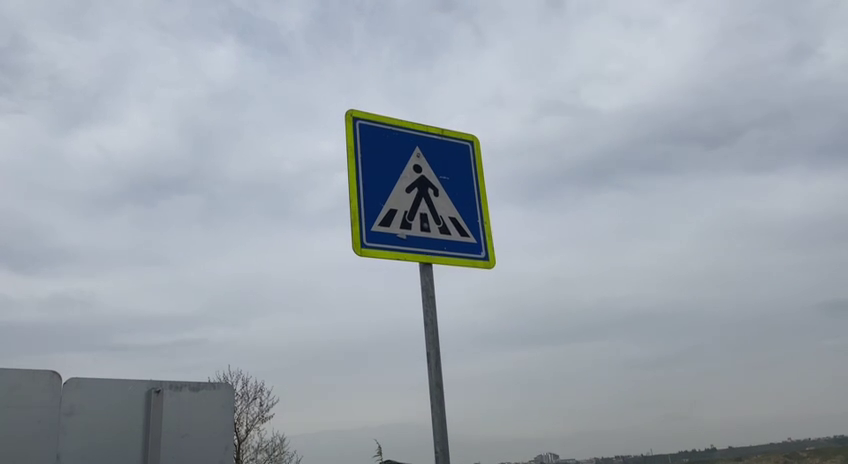pedestrianCrossing: (341, 106, 498, 271)
